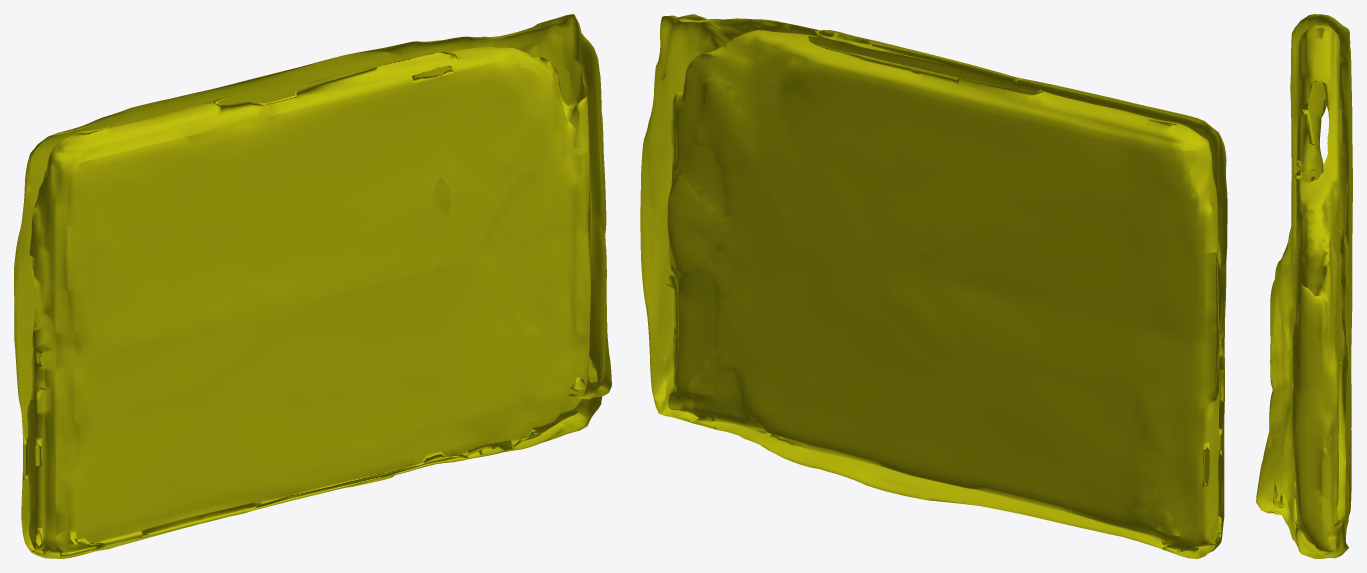
The picture shows the model from 3 angles, left to right: view 1: azimuth 30°, elevation 25°; view 2: azimuth 150°, elevation 25°; view 3: azimuth 270°, elevation 25°; orthographic projection. The views are drawn at different scales.
Parts seen in each view (by area): view 1: world; view 2: world; view 3: world.
Boxes of the visible parts, left/top/right/bottom form: world: left=14, top=14, right=611, bottom=558; world: left=640, top=14, right=1227, bottom=558; world: left=1256, top=14, right=1352, bottom=558.
Size of the model in its own units: 80.63 by 57.19 by 14.42.
